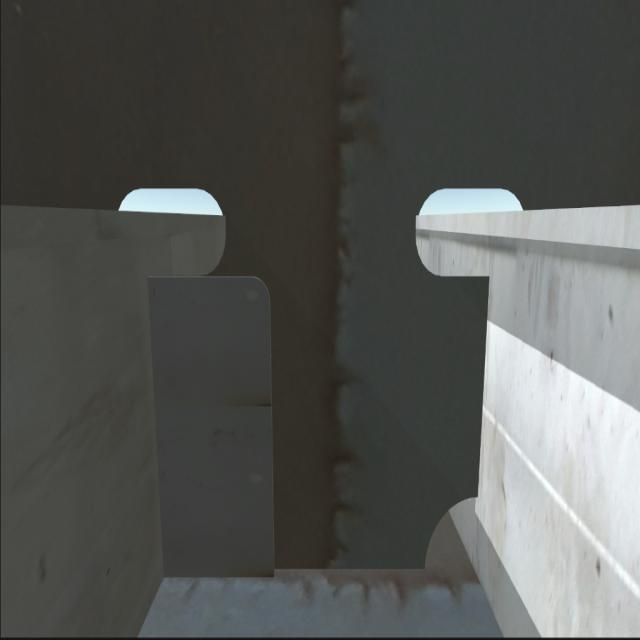fillet_hole: (420, 490, 480, 578)
fillet_yong_jeop_jang: (162, 556, 430, 577)
longi_yong_jeop_jang: (139, 266, 180, 585), (474, 268, 487, 503)
plate_CP05: (144, 272, 278, 583)
